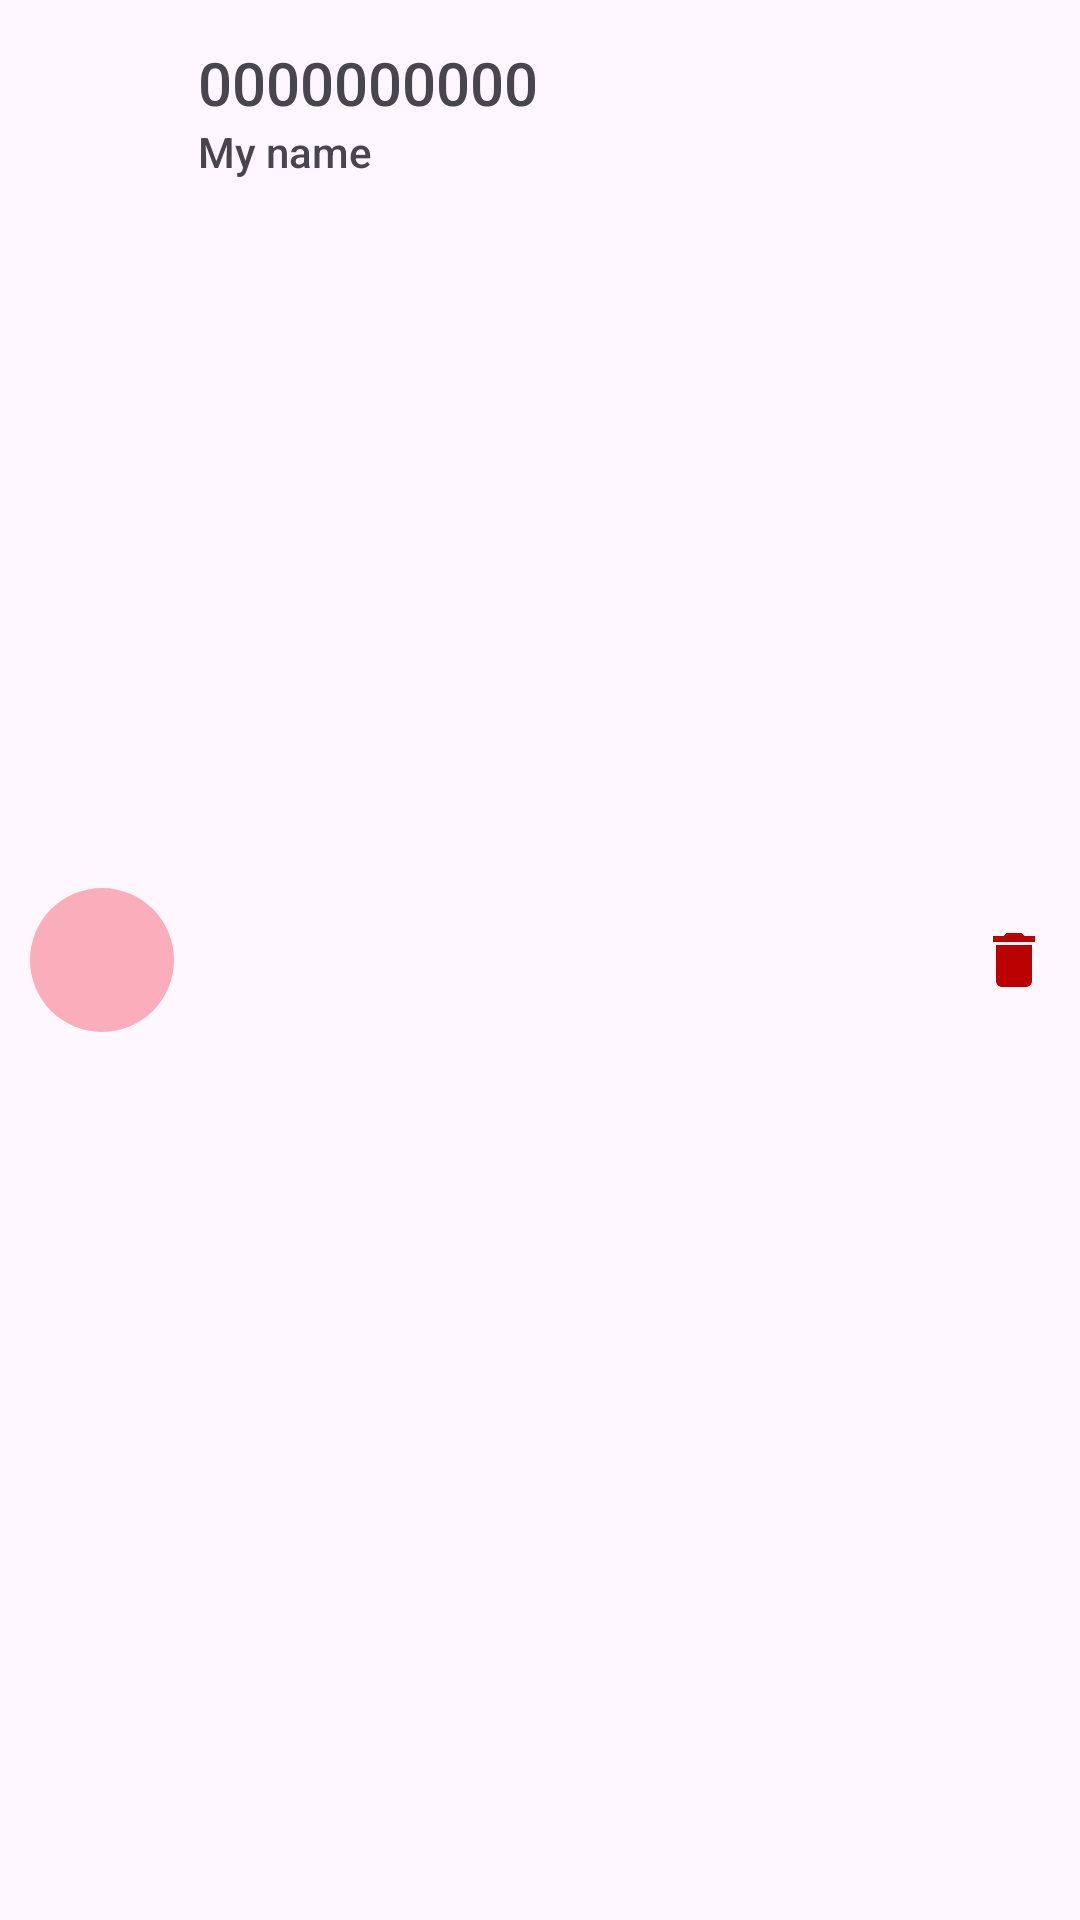

Point at icon controls on the screen. Image size 1080×1920, points as (x=x, y=y).
delete: (x=1014, y=960)
